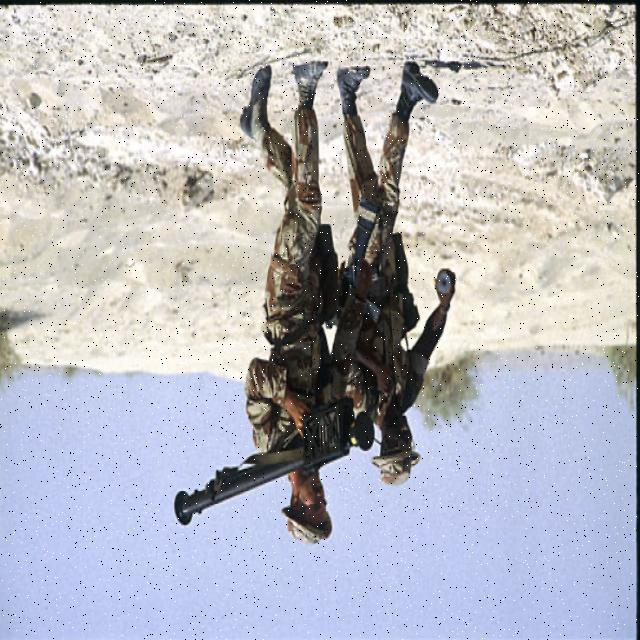bazooka: (170, 395, 383, 540)
